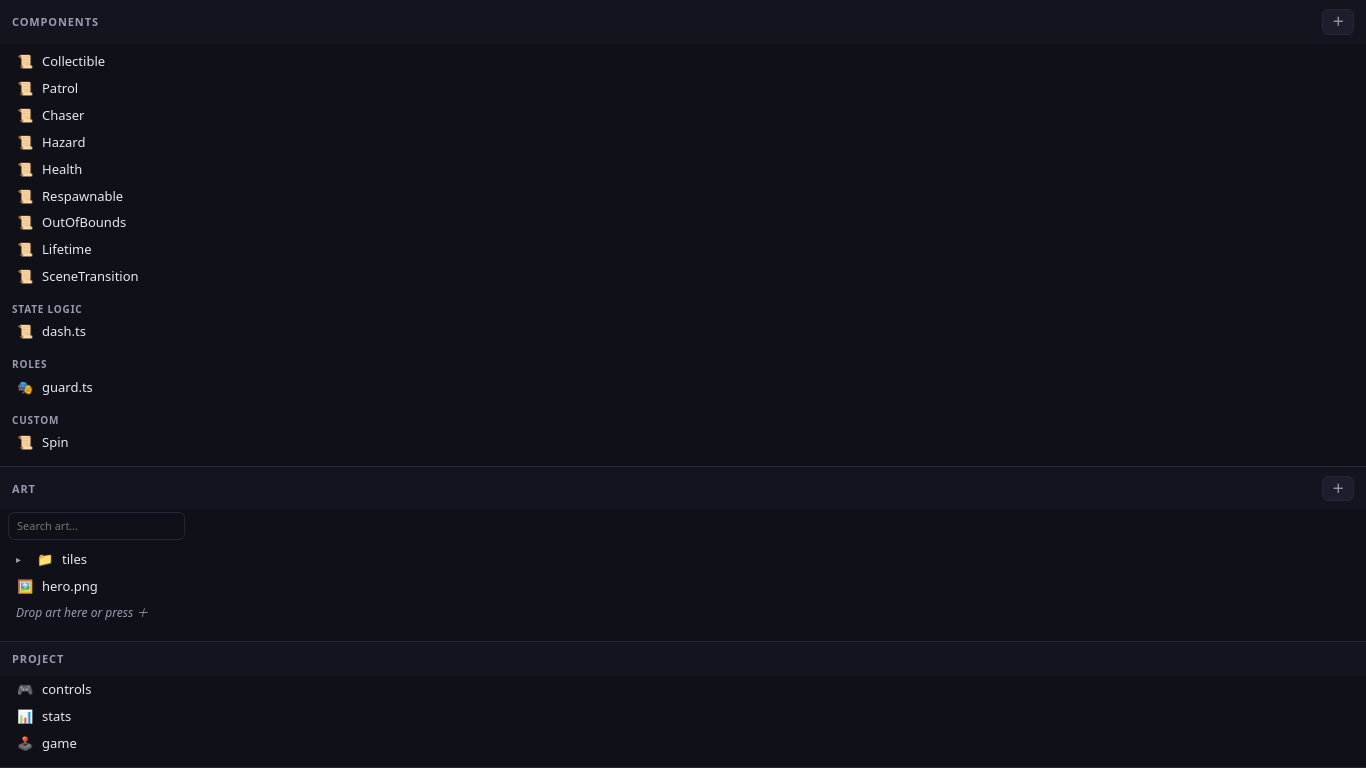
Explorer library (characterization): art › searches art, expanding every match, and says when nothing matches
This screenshot has width=1366, height=768.
(page scrolled)
Type "dirt" into the search field with placeholder "Search art…" at (96, 526), box [8, 512, 185, 540]
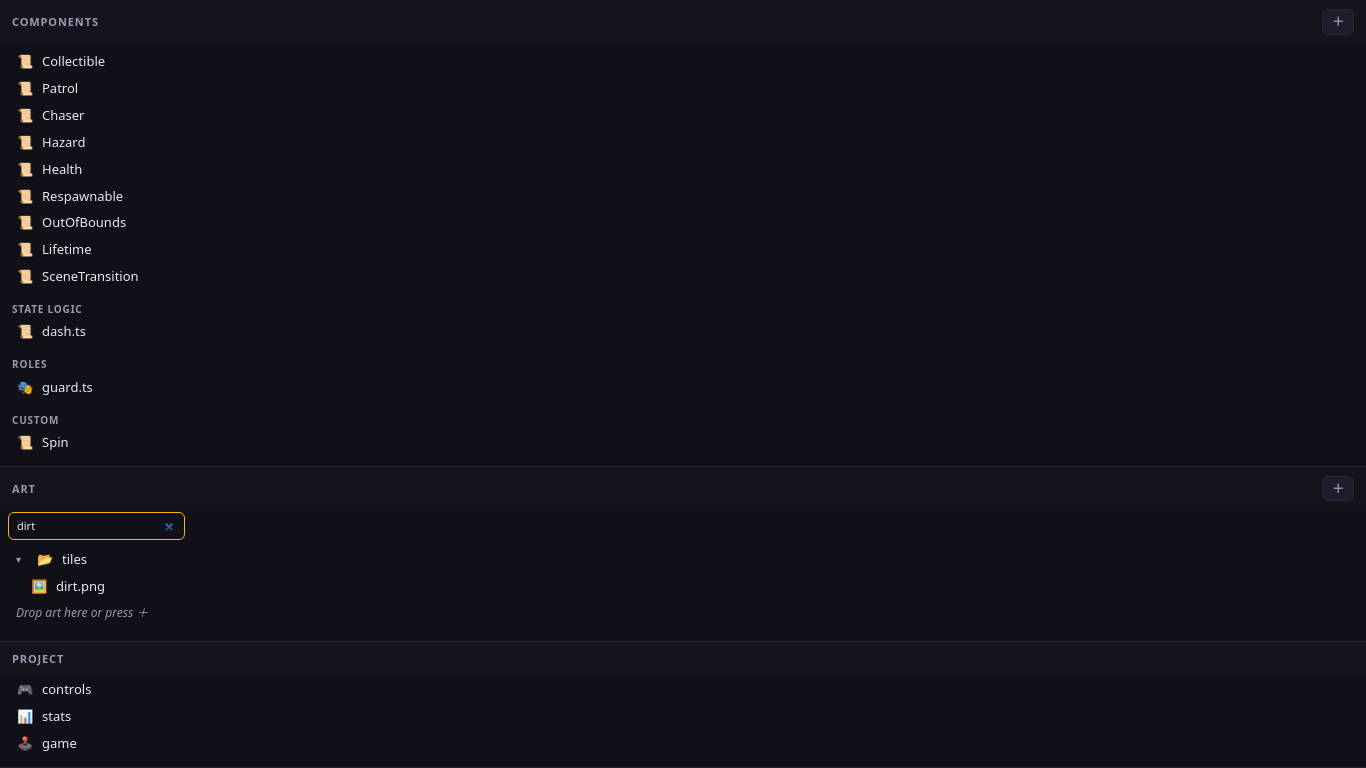
Check: the button "🖼️ dirt.png" is shown, box [22, 573, 1358, 600]
Check: the button "hero.png" is gone
Type "zzz" into the search field with placeholder "Search art…" at (96, 526), box [8, 512, 185, 540]
(page scrolled)
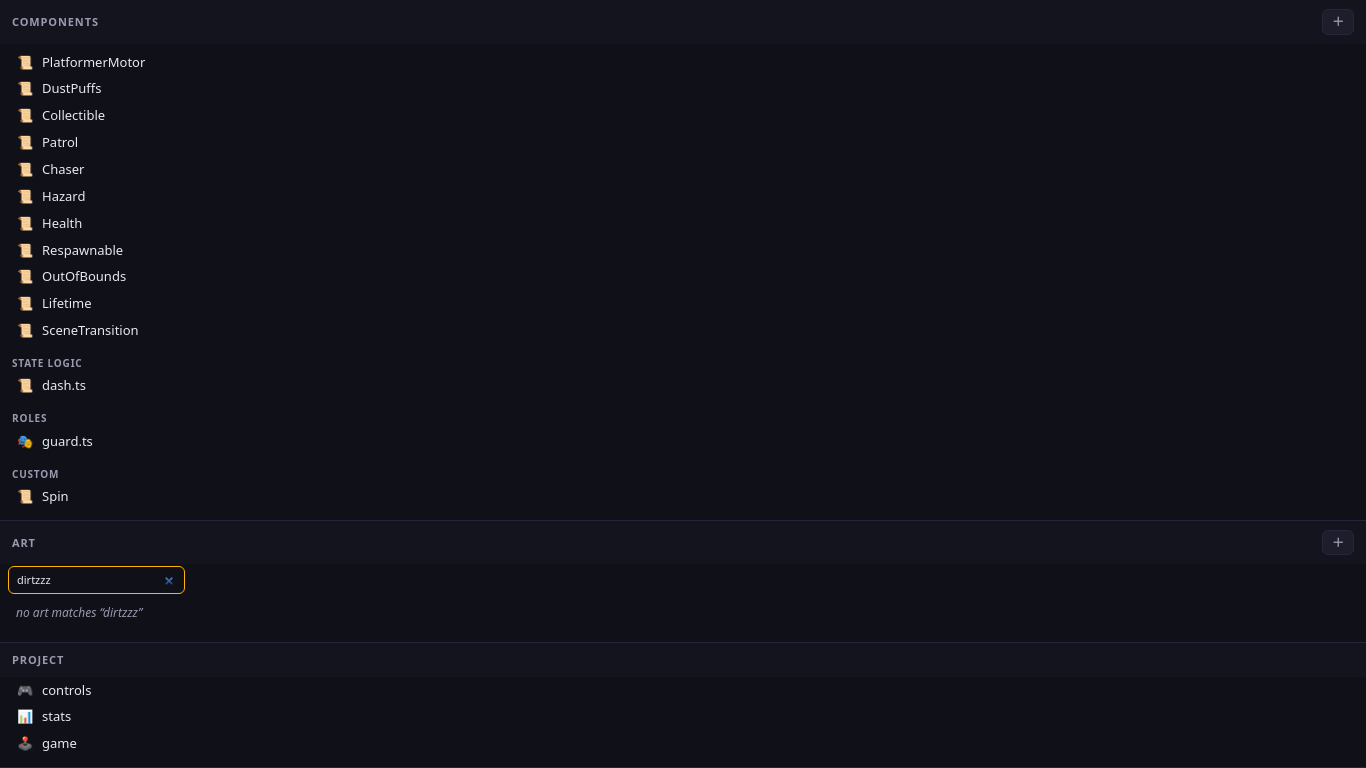
Check: the text "no art matches “dirtzzz”" is shown, box [16, 604, 142, 621]
